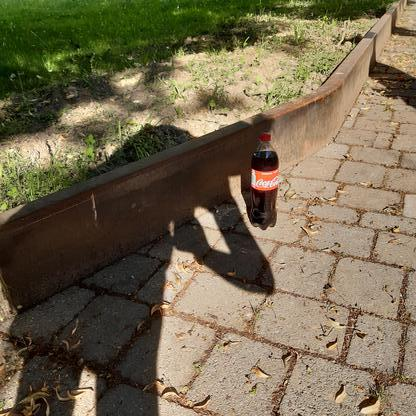coca-cola: (248, 131, 280, 230)
